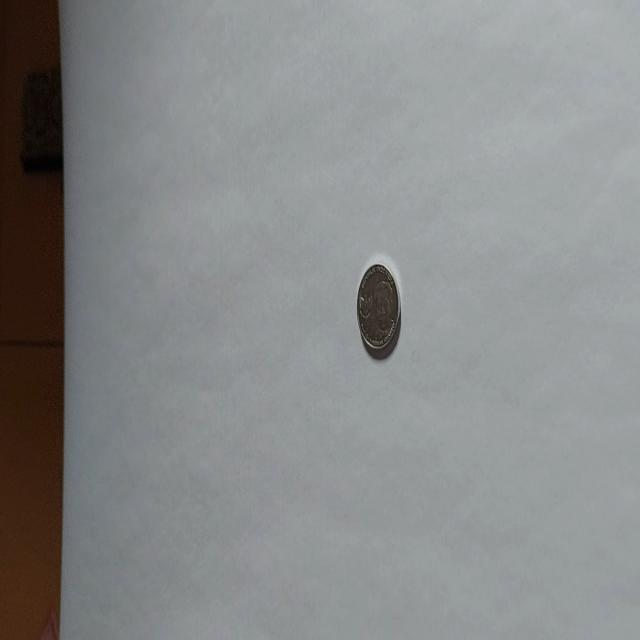seratus rupiah: (356, 261, 400, 359)
